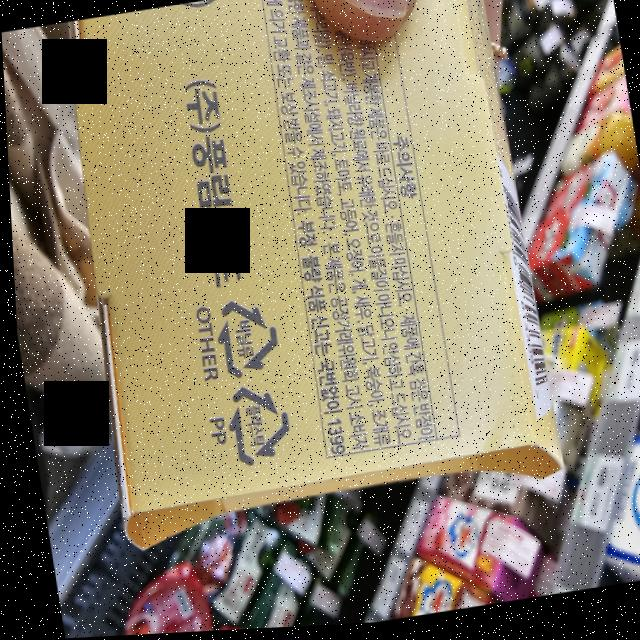Plastic: (217, 381, 290, 470)
Vinyl: (208, 292, 281, 384)
